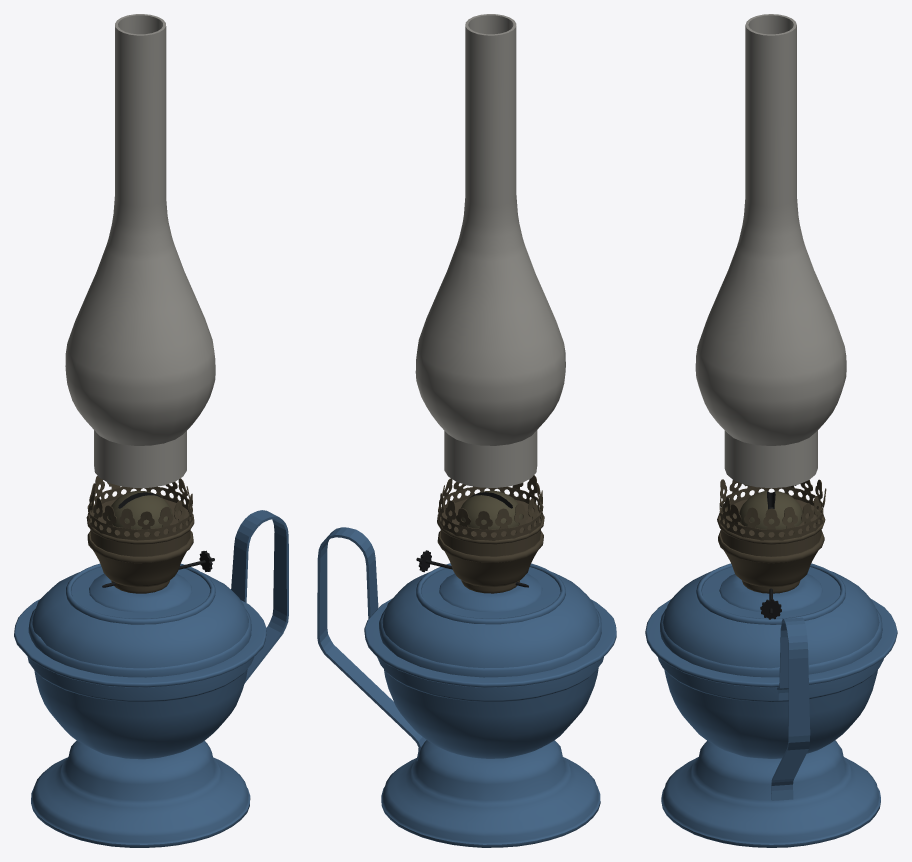
File: draft.fbx
The picture shows the model from 3 angles, left to right: view 1: azimuth 30°, elevation 25°; view 2: azimuth 150°, elevation 25°; view 3: azimuth 270°, elevation 25°; orthographic projection.
Visible parts, largest first — view 1: polySurface103, polySurface70, polySurface99, polySurface100, polySurface73, polySurface71, polySurface93, polySurface92, polySurface98, polySurface97, polySurface87, polySurface74 (+4 smaller); view 2: polySurface103, polySurface70, polySurface99, polySurface100, polySurface71, polySurface73, polySurface93, polySurface92, polySurface98, polySurface97, polySurface87, polySurface74 (+4 smaller); view 3: polySurface103, polySurface70, polySurface99, polySurface100, polySurface71, polySurface73, polySurface93, polySurface92, polySurface97, polySurface98, polySurface87, polySurface74 (+4 smaller).
Part boxes in pixels (left/top/right/bottom): polySurface103: left=65, top=14, right=215, bottom=487; polySurface70: left=31, top=740, right=250, bottom=847; polySurface99: left=32, top=567, right=248, bottom=668; polySurface100: left=34, top=669, right=247, bottom=759; polySurface73: left=14, top=599, right=266, bottom=687; polySurface71: left=231, top=510, right=288, bottom=683; polySurface93: left=27, top=656, right=254, bottom=701; polySurface92: left=28, top=608, right=251, bottom=677; polySurface98: left=89, top=573, right=192, bottom=612; polySurface97: left=94, top=551, right=186, bottom=593; polySurface87: left=87, top=486, right=192, bottom=540; polySurface74: left=66, top=563, right=215, bottom=624; polySurface103: left=415, top=14, right=565, bottom=487; polySurface70: left=381, top=740, right=600, bottom=847; polySurface99: left=382, top=567, right=599, bottom=668; polySurface100: left=384, top=667, right=598, bottom=758; polySurface71: left=317, top=527, right=426, bottom=761; polySurface73: left=364, top=598, right=616, bottom=687; polySurface93: left=377, top=657, right=603, bottom=701; polySurface92: left=379, top=607, right=601, bottom=677; polySurface98: left=439, top=573, right=542, bottom=612; polySurface97: left=444, top=551, right=537, bottom=593; polySurface87: left=438, top=486, right=543, bottom=540; polySurface74: left=416, top=563, right=565, bottom=624; polySurface103: left=695, top=14, right=846, bottom=488; polySurface70: left=661, top=740, right=880, bottom=847; polySurface99: left=662, top=567, right=879, bottom=668; polySurface100: left=664, top=670, right=877, bottom=758; polySurface71: left=771, top=617, right=810, bottom=800; polySurface73: left=645, top=599, right=897, bottom=687; polySurface93: left=658, top=657, right=883, bottom=702; polySurface92: left=660, top=608, right=882, bottom=677; polySurface97: left=724, top=550, right=818, bottom=593; polySurface98: left=719, top=574, right=822, bottom=611; polySurface87: left=719, top=487, right=823, bottom=540; polySurface74: left=696, top=563, right=845, bottom=624.
Size of the model in its own units: 2.51 by 6.99 by 2.06.
